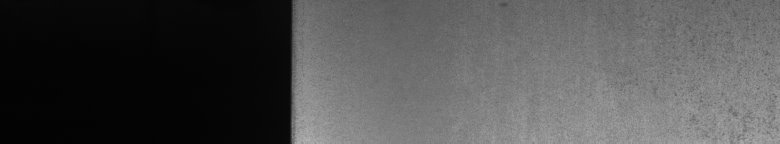ib: (686, 42, 775, 136)
